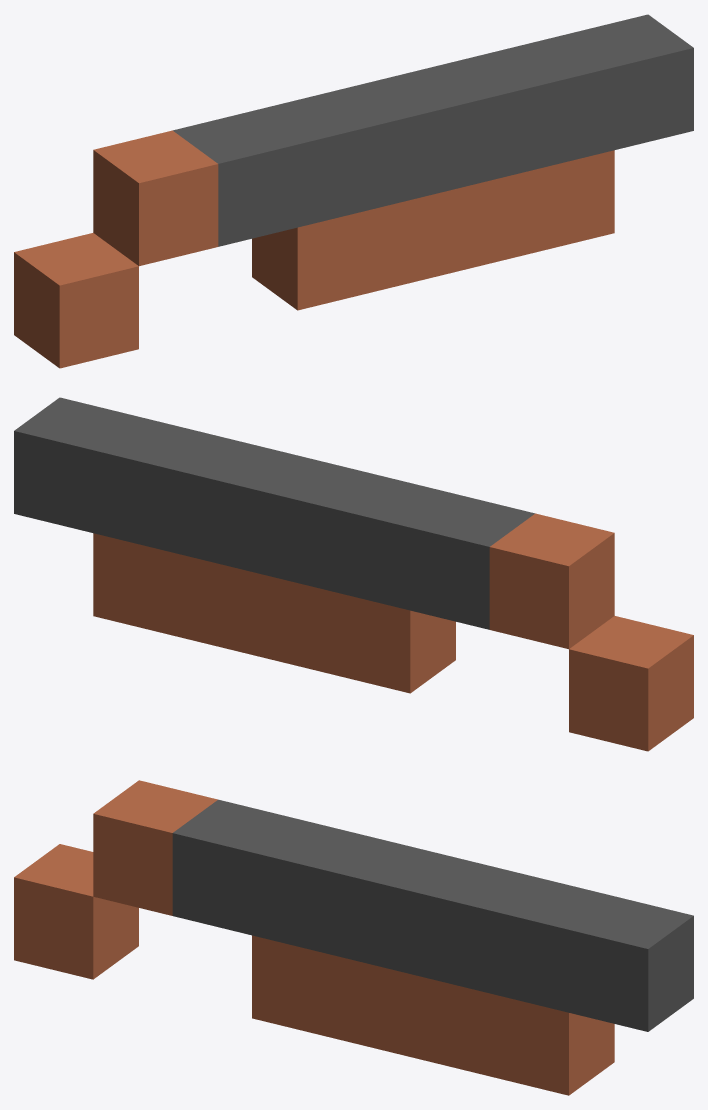
Rendered from Shotgun.obj.
3 renders of one model, top to bottom at view 1: azimuth 30°, elevation 25°; view 2: azimuth 150°, elevation 25°; view 3: azimuth 330°, elevation 25°, orthographic.
Parts seen in each view (by area): view 1: Shotgun; view 2: Shotgun; view 3: Shotgun.
Boxes of the visible parts, x1=… form: Shotgun: x1=14, y1=14, x2=693, y2=368; Shotgun: x1=14, y1=397, x2=693, y2=751; Shotgun: x1=14, y1=780, x2=693, y2=1095.
Bounding box in the file's own units: 8 × 2 × 1.
Materials: 1 (1 with a texture image).
